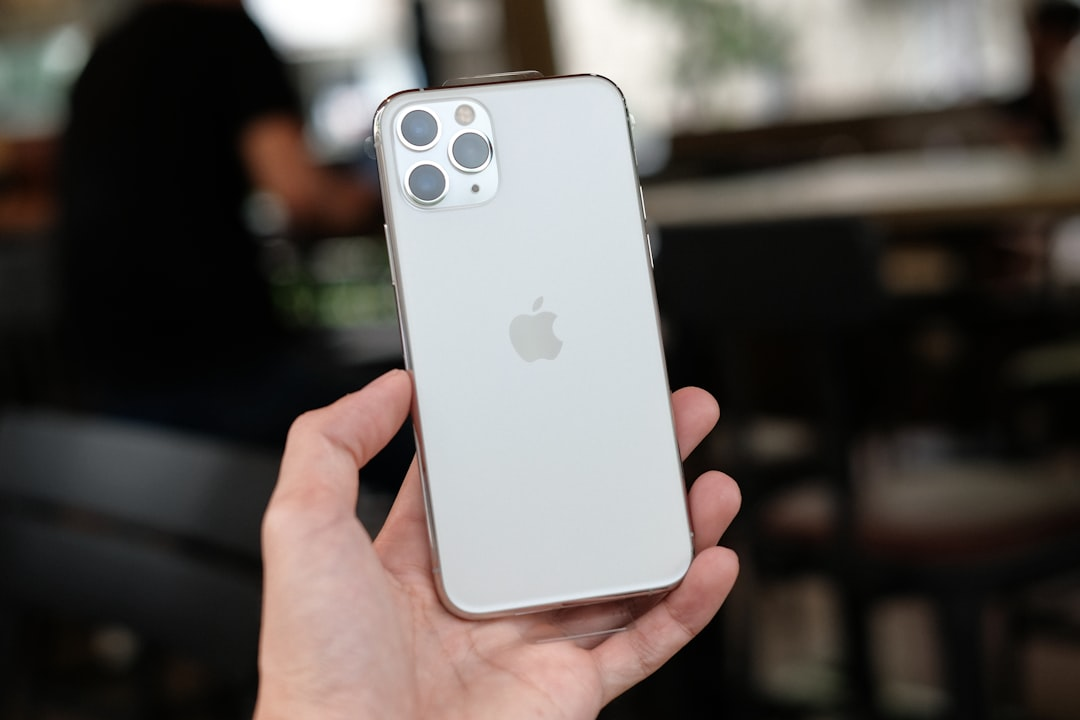phone: (371, 72, 698, 620)
